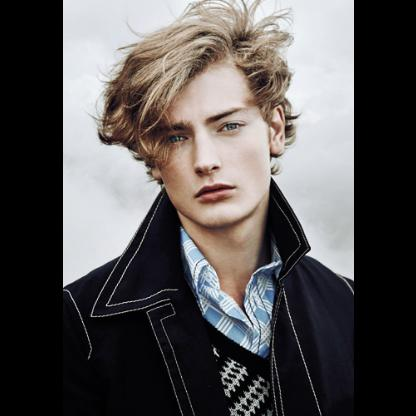Male: (148, 60, 284, 226)
